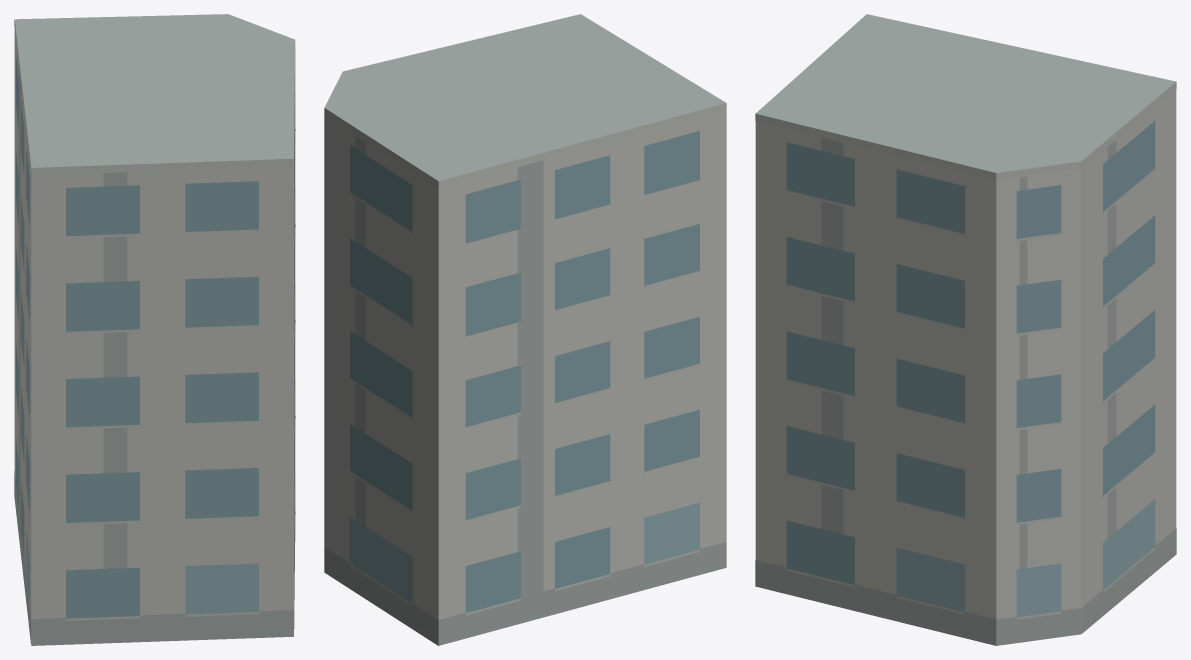
Rendered from survey-upis-32733051.glb.
The picture shows the model from 3 angles, left to right: view 1: azimuth 30°, elevation 25°; view 2: azimuth 150°, elevation 25°; view 3: azimuth 270°, elevation 25°; orthographic projection. The views are drawn at different scales.
Parts seen in each view (by area): view 1: survey-upis-32733051.tmp; view 2: survey-upis-32733051.tmp; view 3: survey-upis-32733051.tmp.
Part boxes in pixels (x1,y1,x2,y2): survey-upis-32733051.tmp: (14, 14, 295, 645); survey-upis-32733051.tmp: (324, 14, 726, 645); survey-upis-32733051.tmp: (755, 14, 1176, 645).
Bounding box in the file's own units: 10.97 × 15.2 × 12.27.
